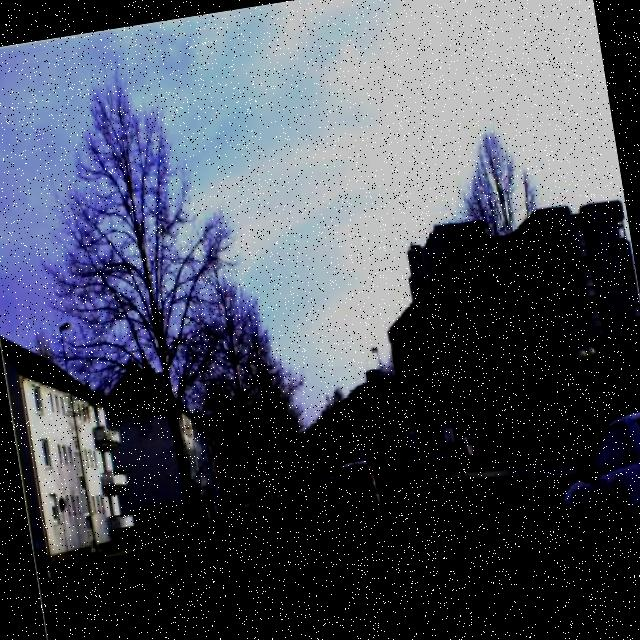Ograniczenie predkosci do 60: (263, 397, 285, 432)
